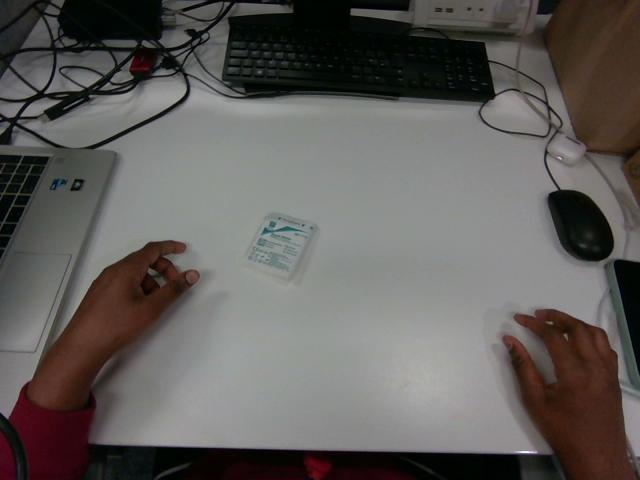gauze: (241, 213, 316, 282)
